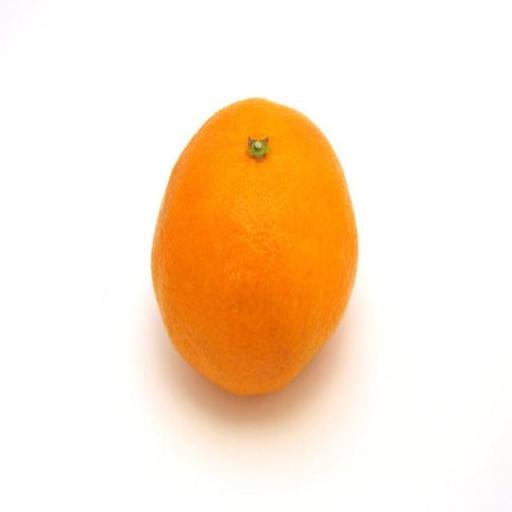fruit: (152, 99, 356, 394)
